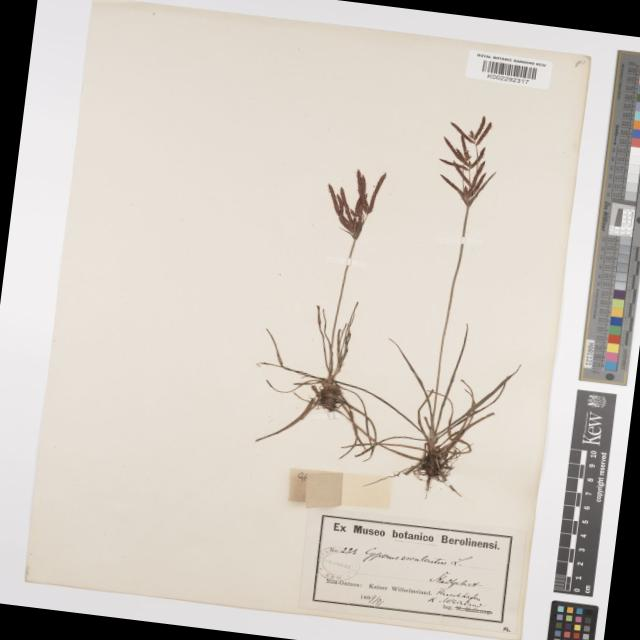cyperus: (421, 100, 521, 218), (310, 160, 402, 244)
